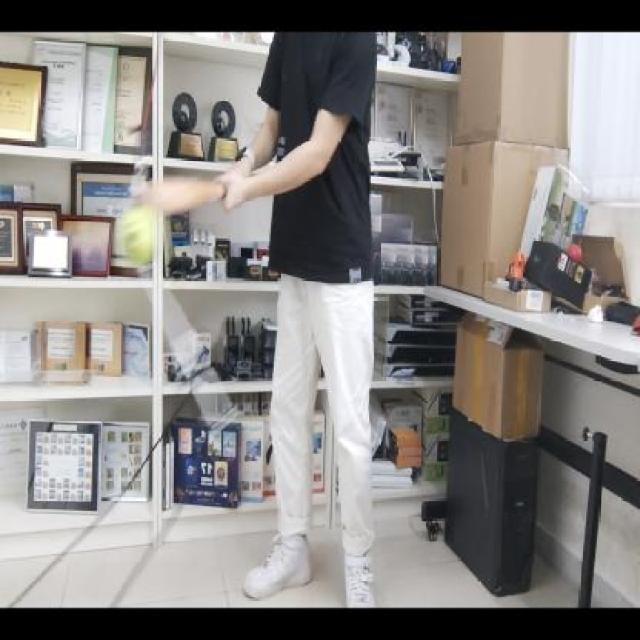baseball: (122, 207, 164, 270)
